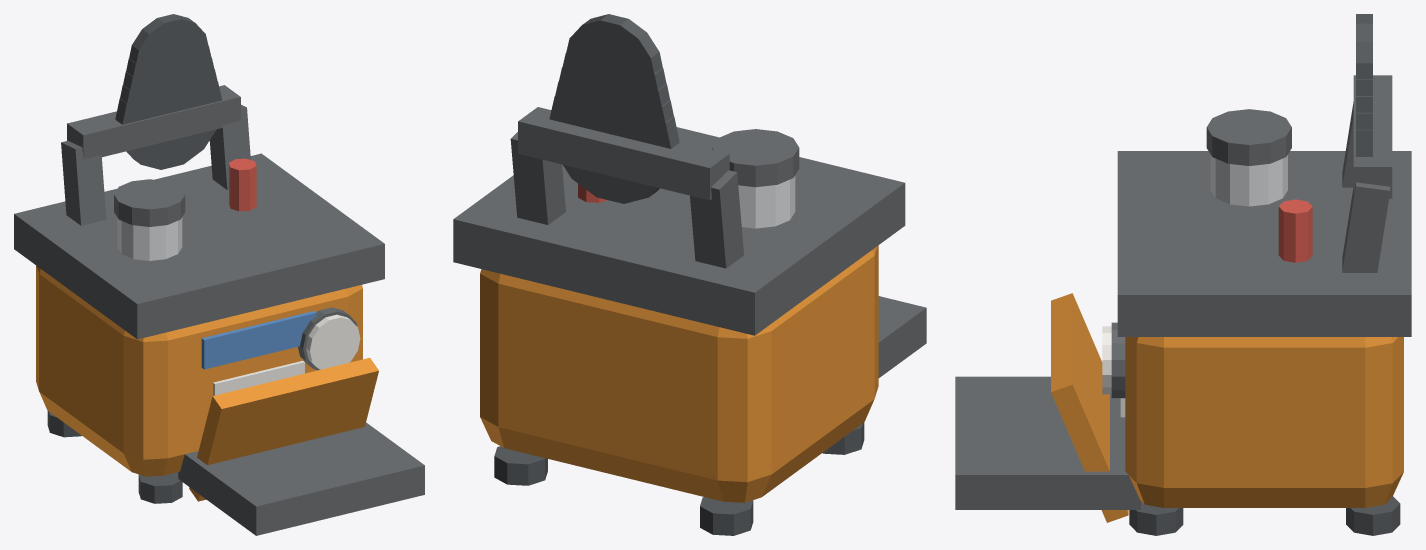
The model's file is tool-hire-depot-and-plant-yard-tool-hire-depot-and-pla-51490f90__35313.glb.
The picture shows the model from 3 angles, left to right: view 1: azimuth 30°, elevation 25°; view 2: azimuth 150°, elevation 25°; view 3: azimuth 270°, elevation 25°; orthographic projection. The views are drawn at different scales.
Parts seen in each view (by area): view 1: tool-hire-depot-and-plant-yard-wallpaper-steam-stripper; view 2: tool-hire-depot-and-plant-yard-wallpaper-steam-stripper; view 3: tool-hire-depot-and-plant-yard-wallpaper-steam-stripper.
Part boxes in pixels (x1,y1,x2,y2): tool-hire-depot-and-plant-yard-wallpaper-steam-stripper: [14, 14, 424, 535]; tool-hire-depot-and-plant-yard-wallpaper-steam-stripper: [453, 14, 926, 535]; tool-hire-depot-and-plant-yard-wallpaper-steam-stripper: [955, 14, 1411, 535].
Bounding box in the file's own units: 0.44 × 0.6603 × 0.59.
